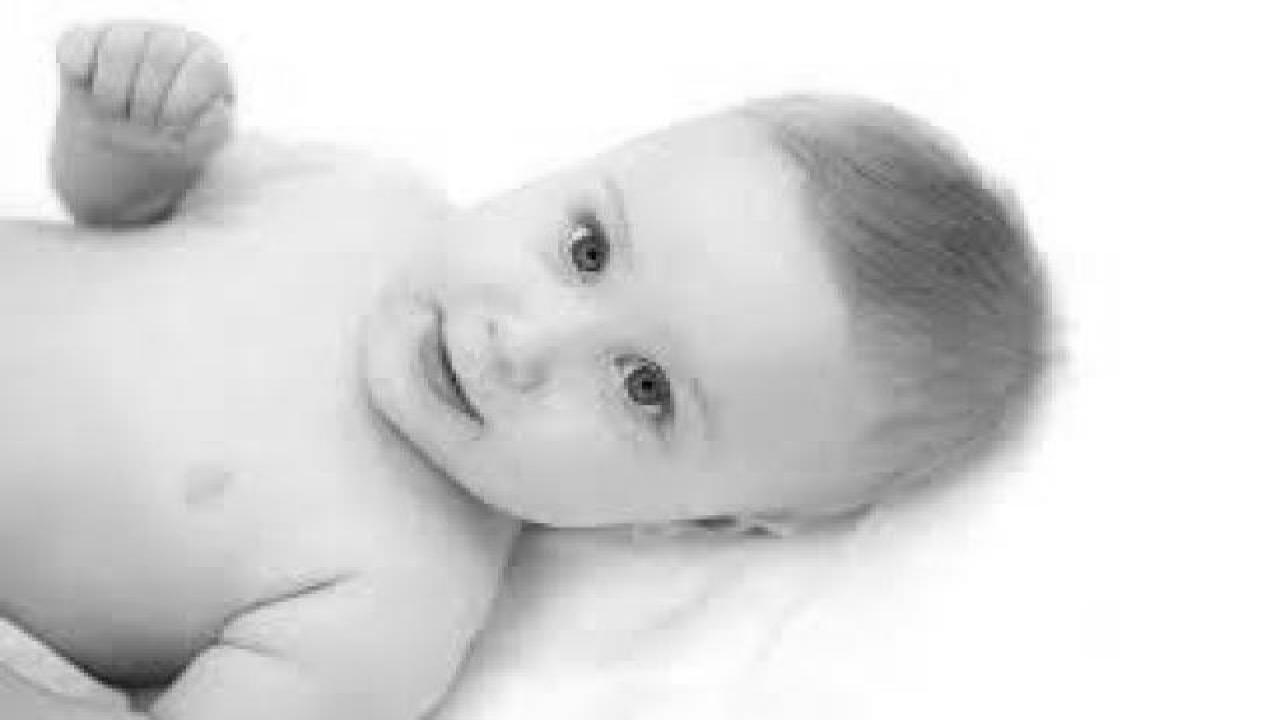hand: (53, 22, 247, 158)
